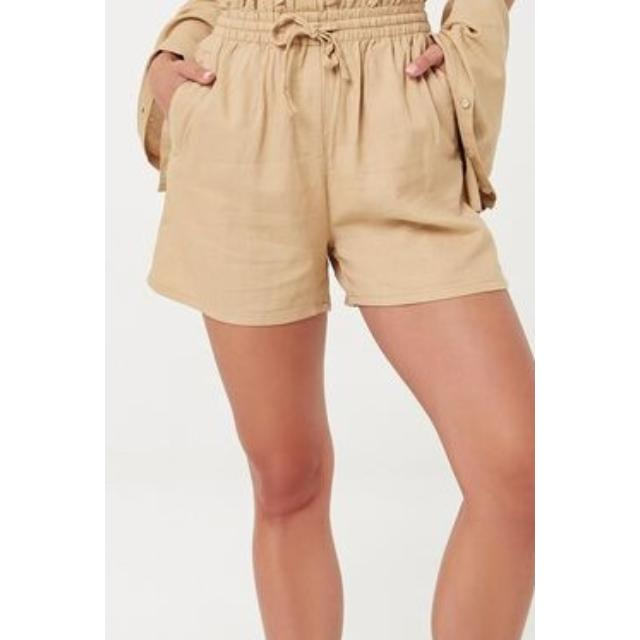linen: (168, 7, 516, 320)
